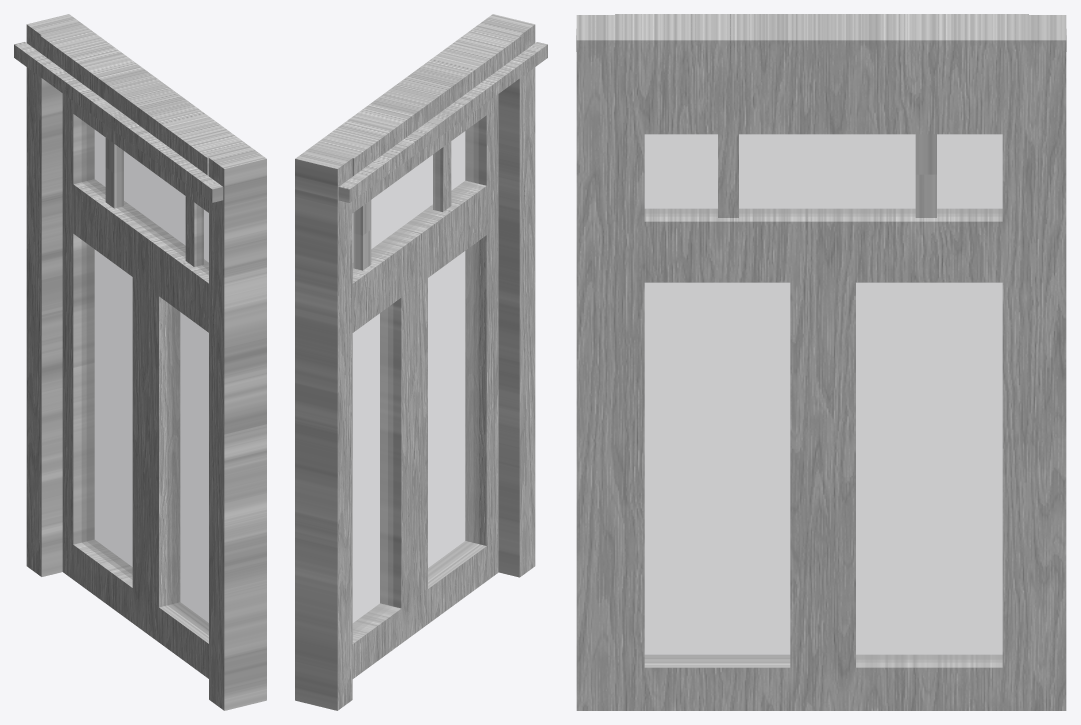
Rendered from WindowFInalUV.fbx.
3 views of the same model, side by side, from view 1: azimuth 30°, elevation 25°; view 2: azimuth 150°, elevation 25°; view 3: azimuth 270°, elevation 25° (orthographic). The views are drawn at different scales.
Visible parts, largest first — view 1: WindowOBJ; view 2: WindowOBJ; view 3: WindowOBJ.
Boxes of the visible parts, x1,y1,x2,y2 form: WindowOBJ: (14, 14, 266, 710); WindowOBJ: (295, 14, 547, 710); WindowOBJ: (576, 14, 1066, 710).
Bounding box in the file's own units: 14.39 × 136 × 90.23.
2 materials, 1 textured.
